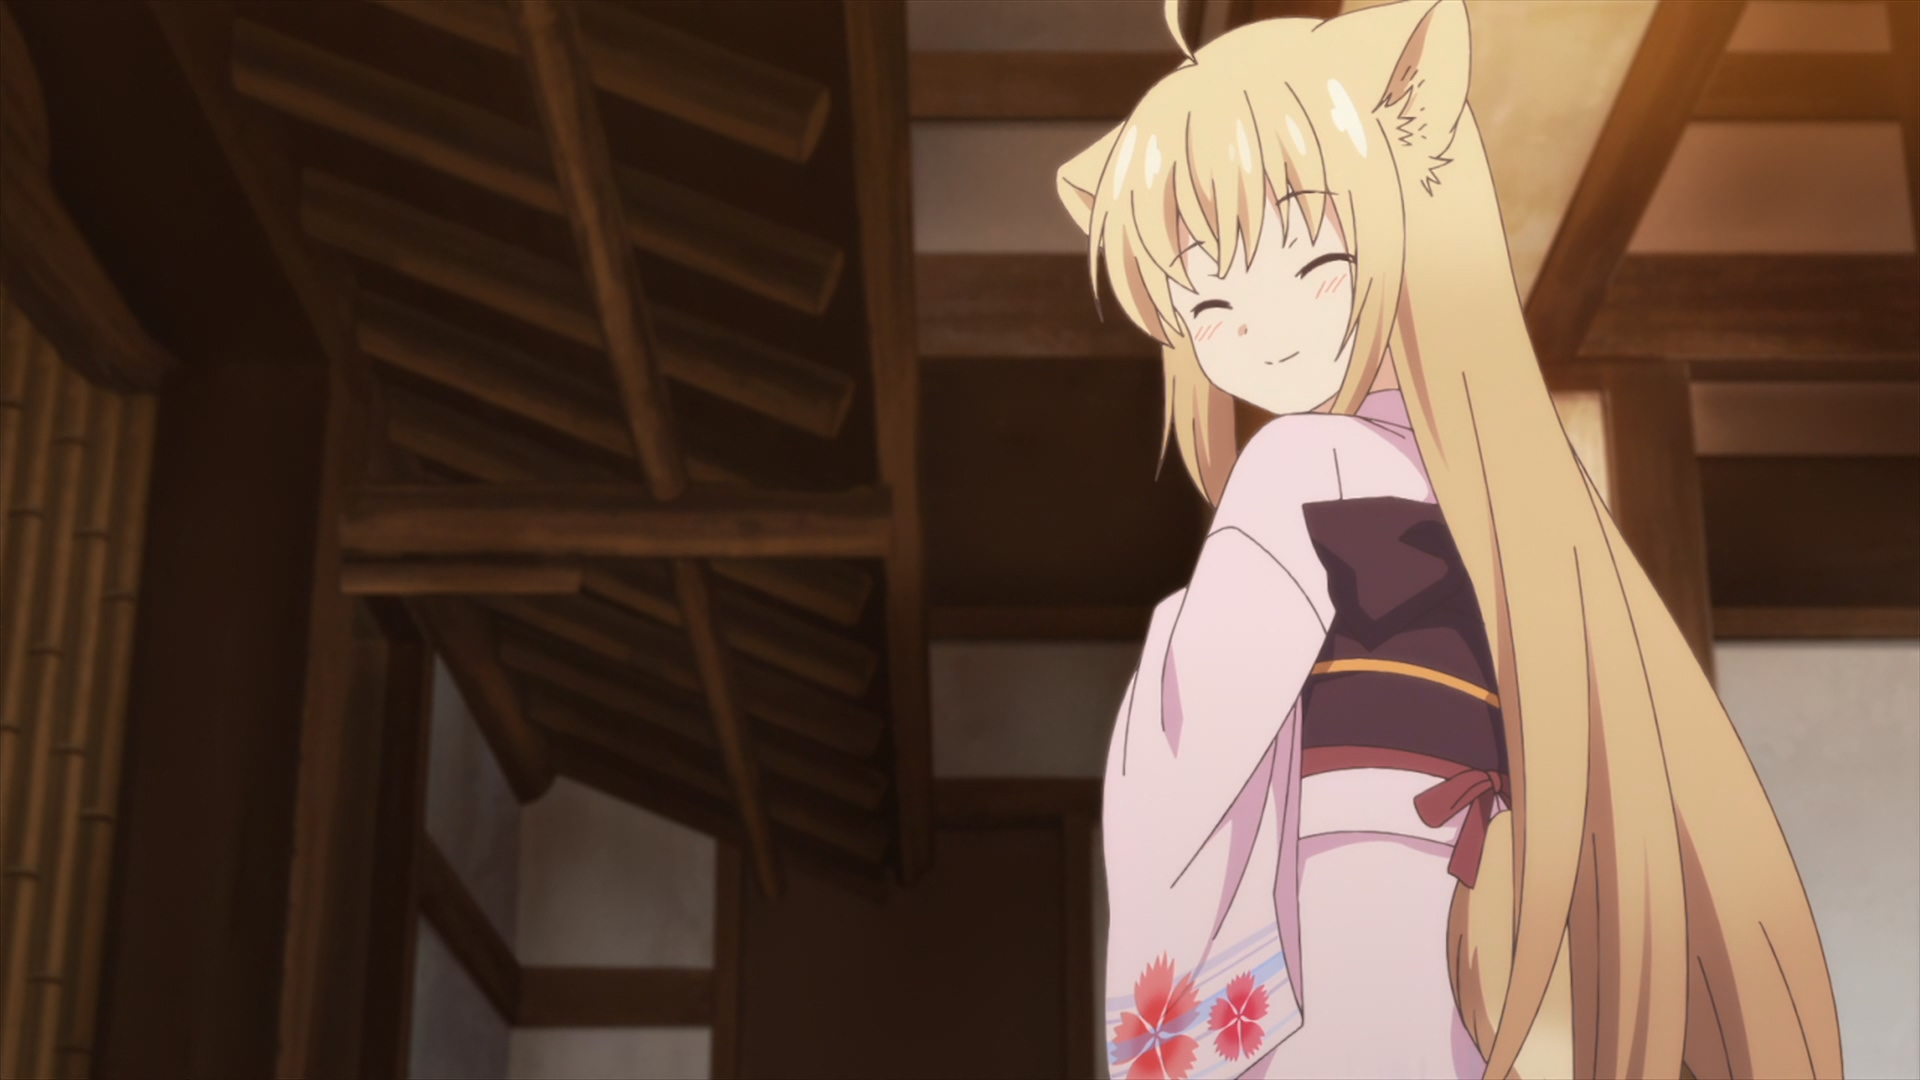柚: (1056, 1, 1844, 1080)
